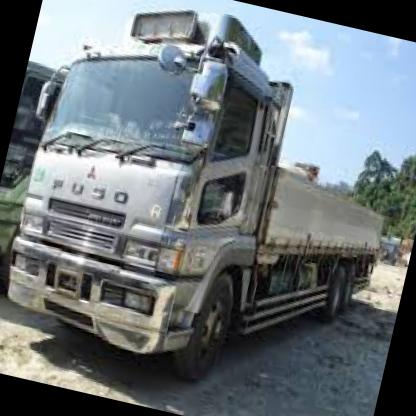truck: (1, 1, 307, 392)
